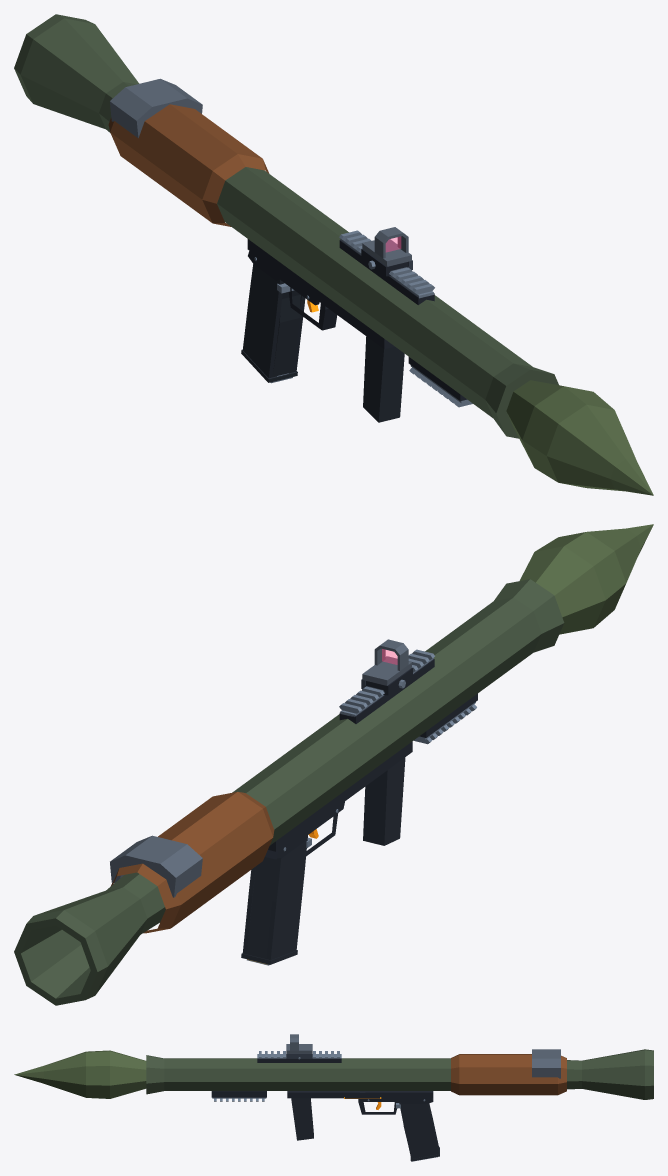
File: kolmogorov_rpg.glb
The picture shows the model from 3 angles, top to bottom: view 1: azimuth 30°, elevation 25°; view 2: azimuth 150°, elevation 25°; view 3: azimuth 270°, elevation 25°; orthographic projection. The views are drawn at different scales.
Parts seen in each view (by area): view 1: RPG_HollowVenturiLaunchTube, Magazine_Well, RPG_ShoulderWoodHeatshield, Ergonomic_HollowPolymerGrip, Receiver, RPG_SteelTriggerHousingAndSaddles, Chamber_Breech, Universal_FCU_AdapterTang, PicatinnyRail_Top_21_2mm, RedDot_Chassis; view 2: RPG_HollowVenturiLaunchTube, RPG_ShoulderWoodHeatshield, Magazine_Well, Ergonomic_HollowPolymerGrip, Chamber_Breech, RPG_SteelTriggerHousingAndSaddles, Receiver, PicatinnyRail_Top_21_2mm, Universal_FCU_AdapterTang, RedDot_Chassis; view 3: RPG_HollowVenturiLaunchTube, Magazine_Well, RPG_ShoulderWoodHeatshield, RPG_SteelTriggerHousingAndSaddles, Ergonomic_HollowPolymerGrip, Chamber_Breech, Receiver, Universal_FCU_AdapterTang, PicatinnyRail_Top_21_2mm, PortDoor_StampedCover, RedDot_Chassis.
Boxes of the visible parts, box(x1,y1,x2,y2) form: RPG_HollowVenturiLaunchTube: box(14, 14, 558, 438); Magazine_Well: box(506, 380, 653, 495); RPG_ShoulderWoodHeatshield: box(108, 104, 269, 226); Ergonomic_HollowPolymerGrip: box(241, 264, 305, 382); Receiver: box(363, 336, 404, 422); RPG_SteelTriggerHousingAndSaddles: box(247, 239, 466, 401); Chamber_Breech: box(110, 78, 202, 138); Universal_FCU_AdapterTang: box(248, 251, 337, 330); PicatinnyRail_Top_21_2mm: box(339, 230, 434, 298); RedDot_Chassis: box(362, 239, 411, 266); RPG_HollowVenturiLaunchTube: box(14, 579, 564, 1005); RPG_ShoulderWoodHeatshield: box(111, 791, 274, 933); Magazine_Well: box(519, 524, 653, 634); Ergonomic_HollowPolymerGrip: box(241, 836, 307, 964); Chamber_Breech: box(110, 835, 202, 897); RPG_SteelTriggerHousingAndSaddles: box(268, 659, 477, 851); Receiver: box(363, 757, 405, 845); PicatinnyRail_Top_21_2mm: box(339, 649, 434, 716); Universal_FCU_AdapterTang: box(265, 801, 344, 859); RedDot_Chassis: box(362, 656, 411, 685); RPG_HollowVenturiLaunchTube: box(146, 1049, 653, 1099); Magazine_Well: box(14, 1050, 146, 1098); RPG_ShoulderWoodHeatshield: box(451, 1054, 566, 1095); RPG_SteelTriggerHousingAndSaddles: box(211, 1058, 433, 1098); Ergonomic_HollowPolymerGrip: box(399, 1102, 439, 1161); Chamber_Breech: box(532, 1049, 560, 1078); Receiver: box(291, 1098, 313, 1140); Universal_FCU_AdapterTang: box(358, 1098, 433, 1114); PicatinnyRail_Top_21_2mm: box(257, 1051, 341, 1058); PortDoor_StampedCover: box(345, 1092, 379, 1098); RedDot_Chassis: box(286, 1044, 312, 1053).
Size of the model in its own units: 0.09 by 0.225 by 1.06.
